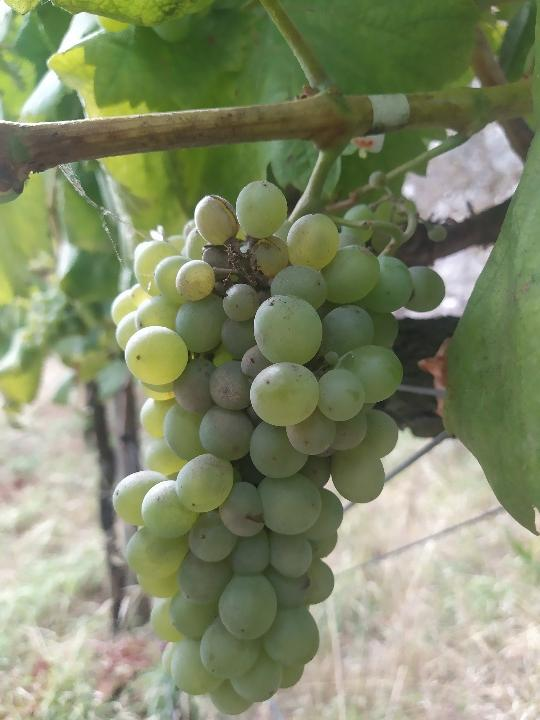grape: (103, 171, 448, 717)
